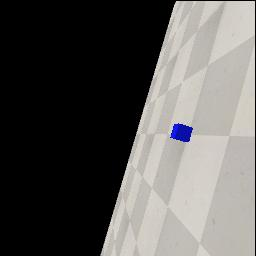box: (170, 123, 193, 142)
